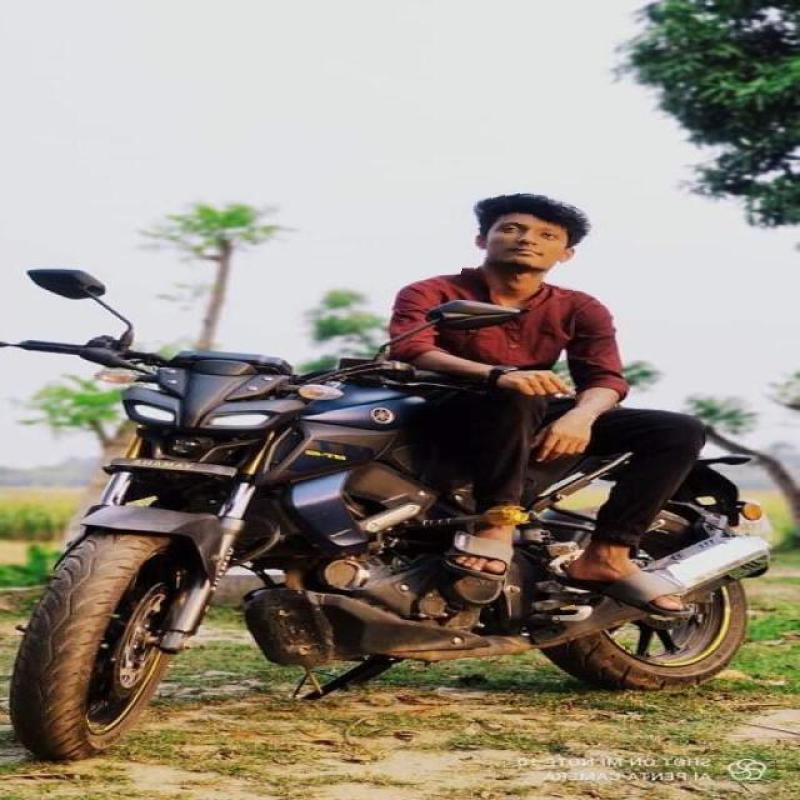nohelmet: (462, 184, 615, 290)
